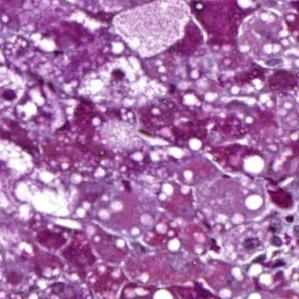ballooning: (75, 53, 168, 110)
